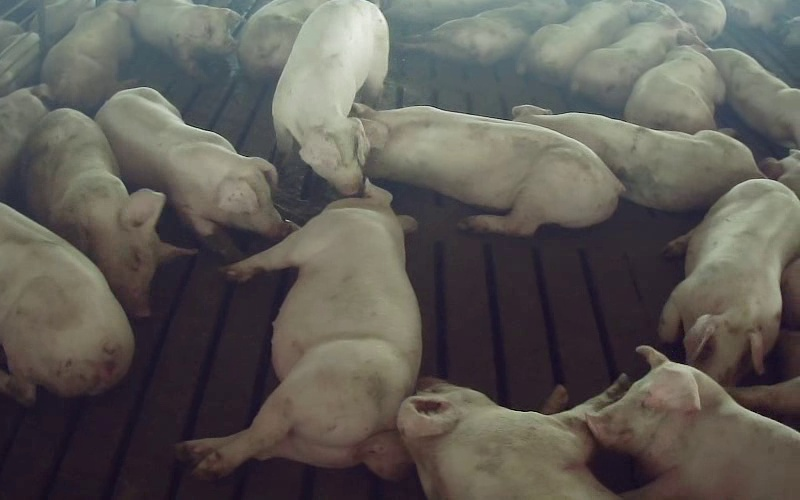pig: (179, 184, 421, 475), (352, 104, 623, 235), (21, 108, 187, 315), (357, 375, 628, 499), (96, 87, 290, 259), (587, 347, 799, 499), (659, 179, 799, 384), (513, 105, 763, 210), (272, 0, 388, 195), (41, 0, 134, 113), (708, 48, 799, 147), (624, 45, 725, 133), (133, 0, 240, 75)
